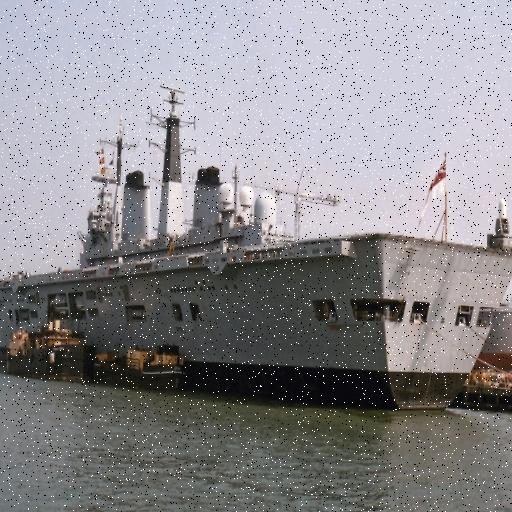Portanaves: (1, 76, 512, 425)
